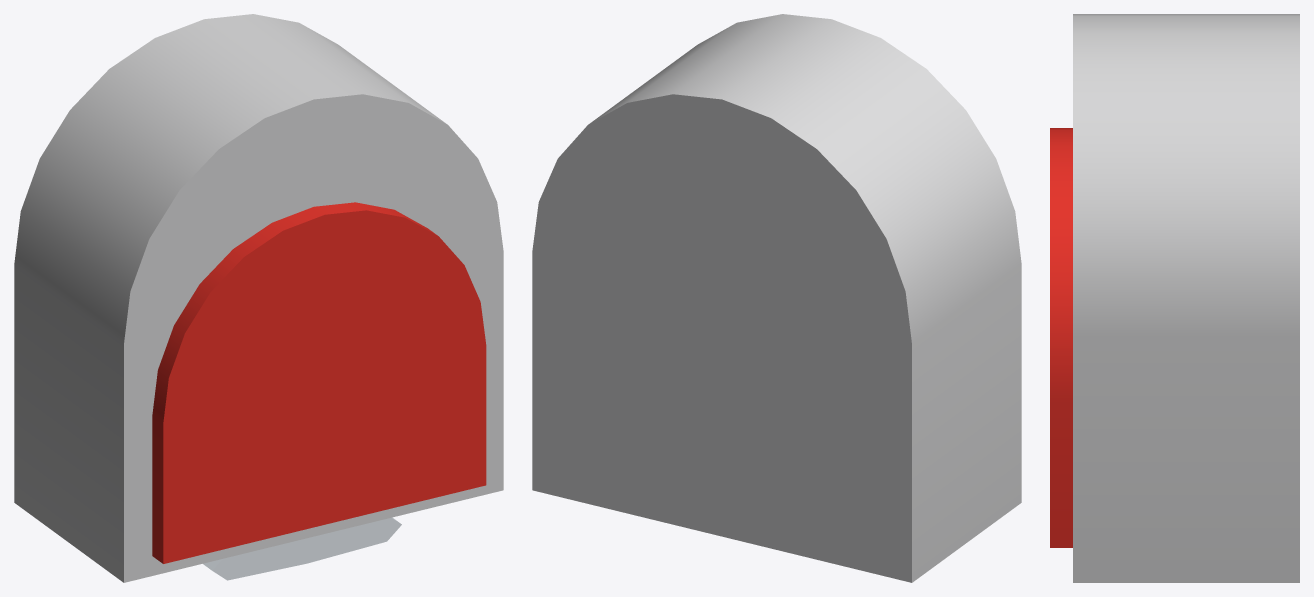
Rendered from tombstone.glb.
The picture shows the model from 3 angles, left to right: view 1: azimuth 30°, elevation 25°; view 2: azimuth 150°, elevation 25°; view 3: azimuth 270°, elevation 25°; orthographic projection. The views are drawn at different scales.
Visible parts, largest first — view 1: lod0; view 2: lod0; view 3: lod0.
Boxes of the visible parts, <box> form: lod0: <box>14,14,503,582</box>; lod0: <box>532,14,1021,582</box>; lod0: <box>1050,14,1299,582</box>.
Size of what is drawn, in the model's own units: 0.1 by 0.118 by 0.055.
